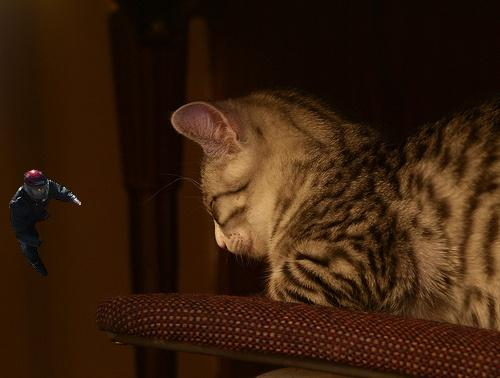tampered: (10, 170, 81, 276)
